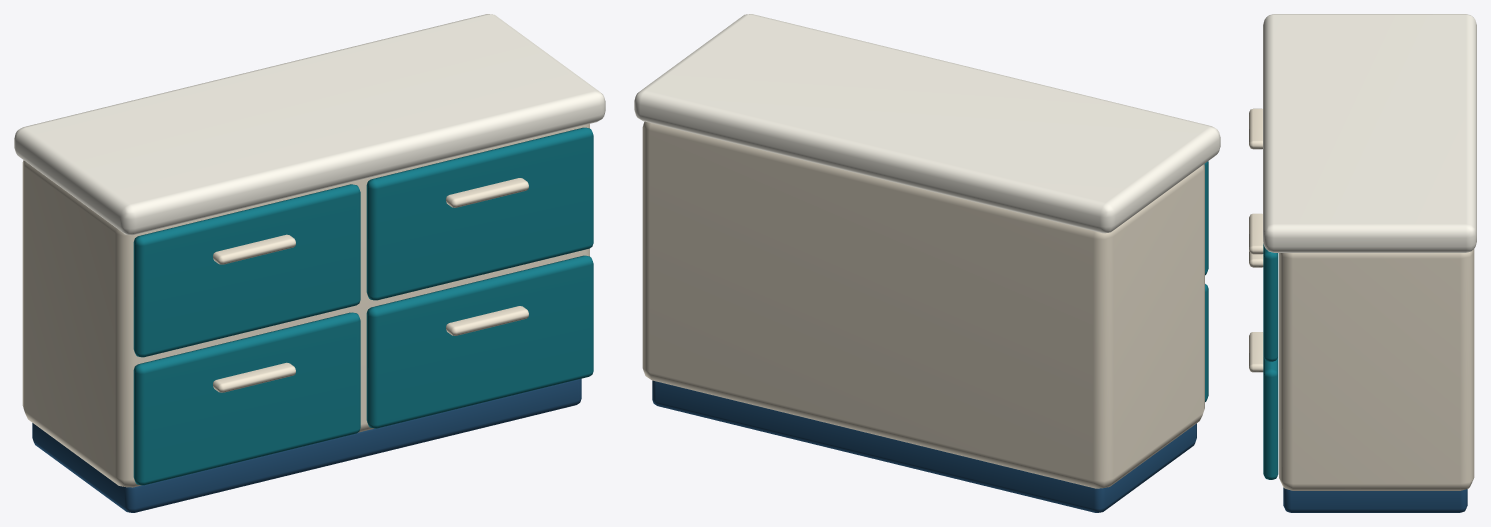
Rendered from Clinical_Storage_Cabinet.glb.
The picture shows the model from 3 angles, left to right: view 1: azimuth 30°, elevation 25°; view 2: azimuth 150°, elevation 25°; view 3: azimuth 270°, elevation 25°; orthographic projection. The views are drawn at different scales.
Visible parts, largest first — view 1: Clinical_Storage_Cabinet__Visual; view 2: Clinical_Storage_Cabinet__Visual; view 3: Clinical_Storage_Cabinet__Visual.
Boxes of the visible parts, box(x1,y1,x2,y2) form: Clinical_Storage_Cabinet__Visual: box(14, 14, 605, 512); Clinical_Storage_Cabinet__Visual: box(634, 14, 1220, 512); Clinical_Storage_Cabinet__Visual: box(1249, 14, 1476, 512).
Size of the model in its own units: 1.4 by 0.88 by 0.618.
Materials: 1 (1 with a texture image).
